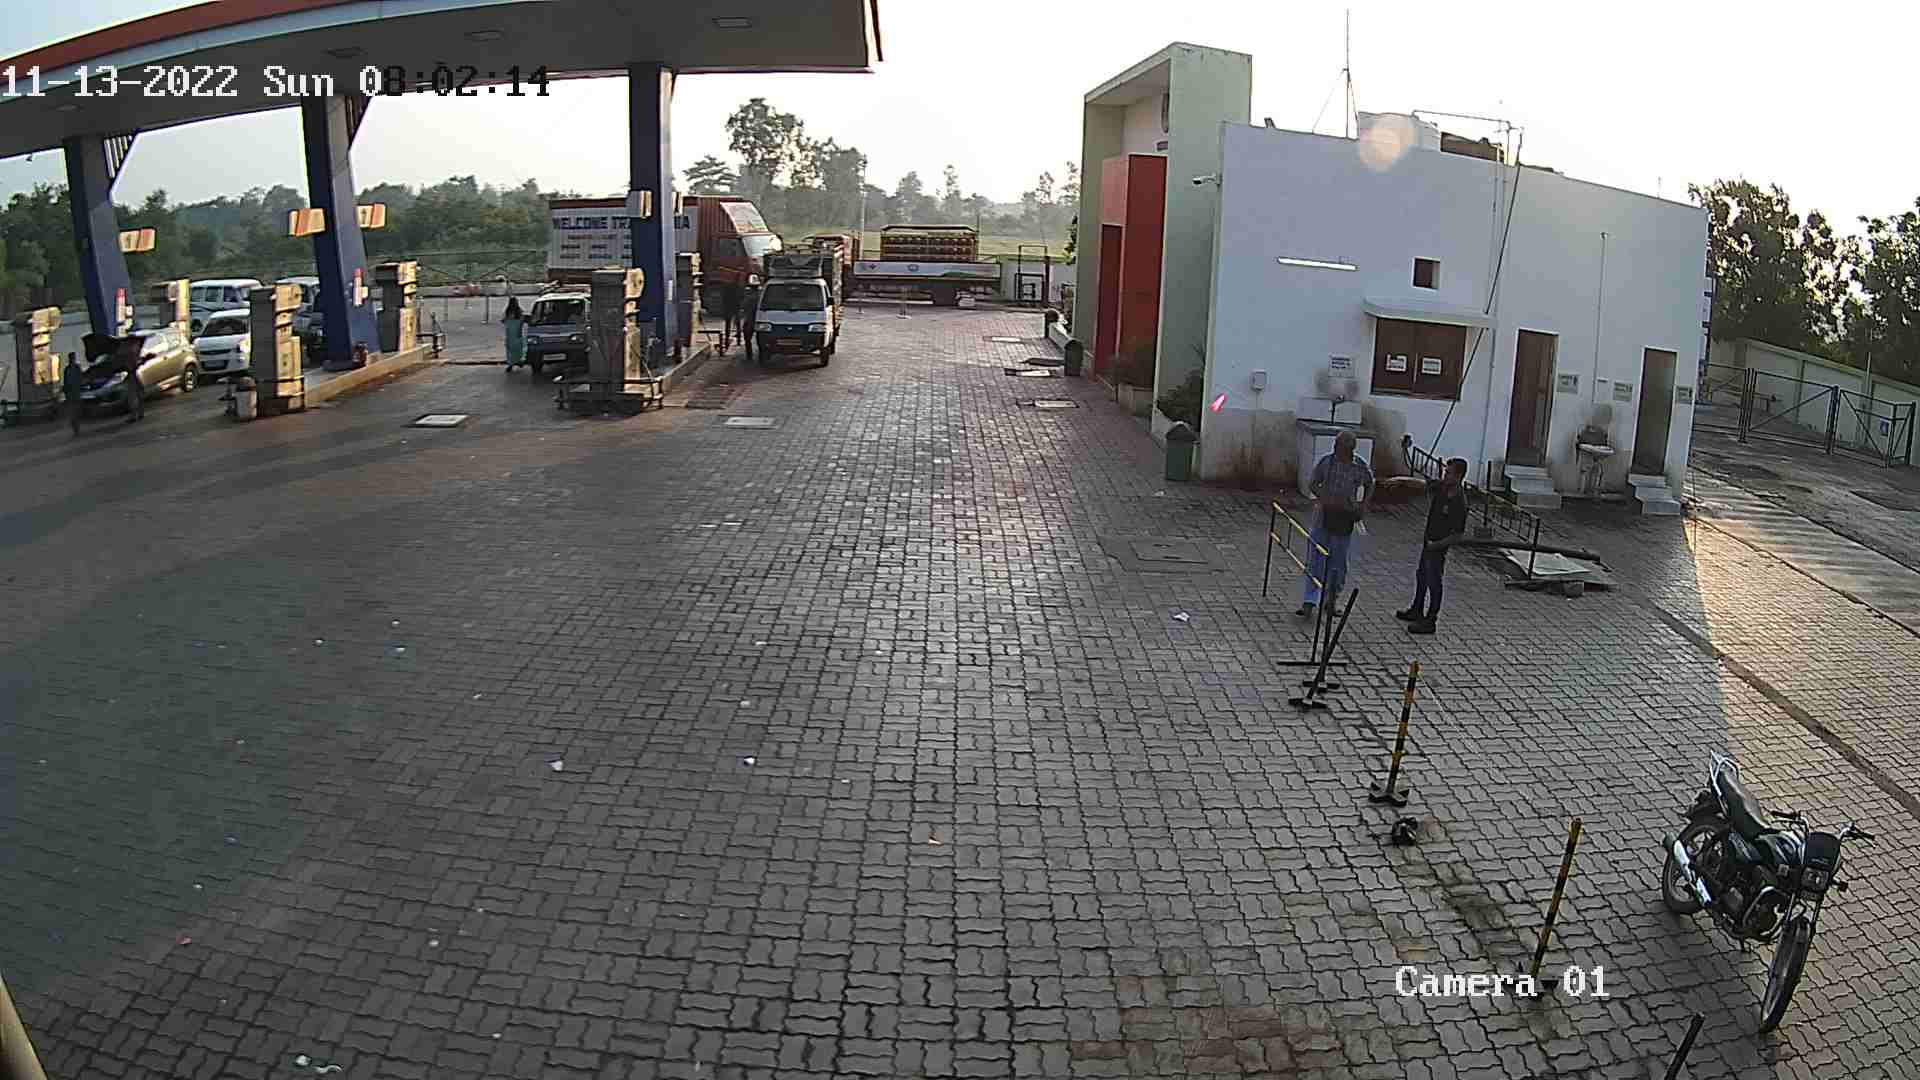Bike: (1651, 744, 1876, 1044)
Car: (740, 229, 862, 372), (57, 314, 202, 422), (513, 273, 601, 384), (185, 302, 261, 389), (277, 266, 339, 372), (178, 272, 264, 345)
HMV: (674, 186, 791, 320), (843, 219, 1011, 311)
